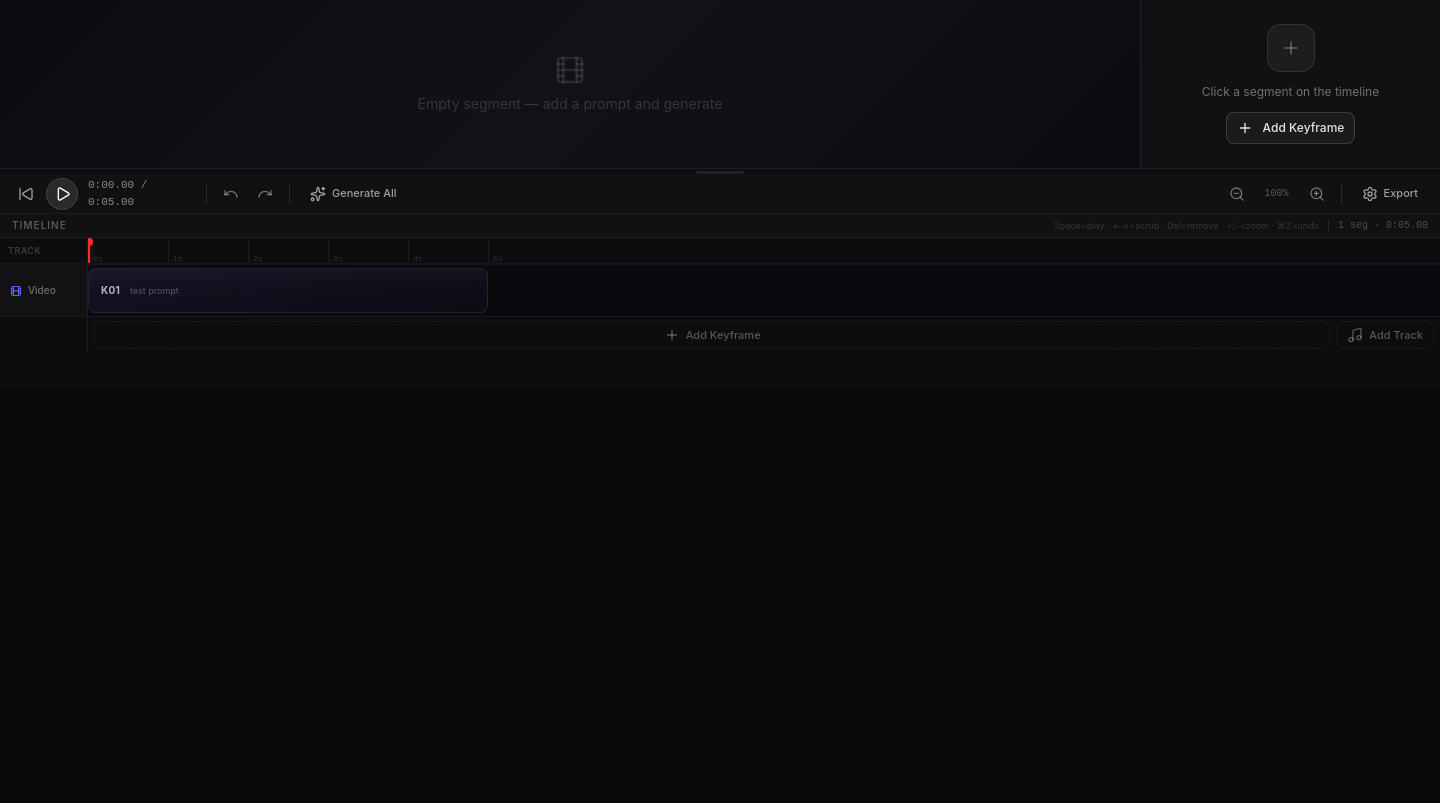
Test: VideoEditor — segment selection & inspector › clicking a segment shows the inspector panel
The image size is (1440, 803).
Click the element showing "K01 test prompt".
click(288, 290)  # box [88,268,488,313]
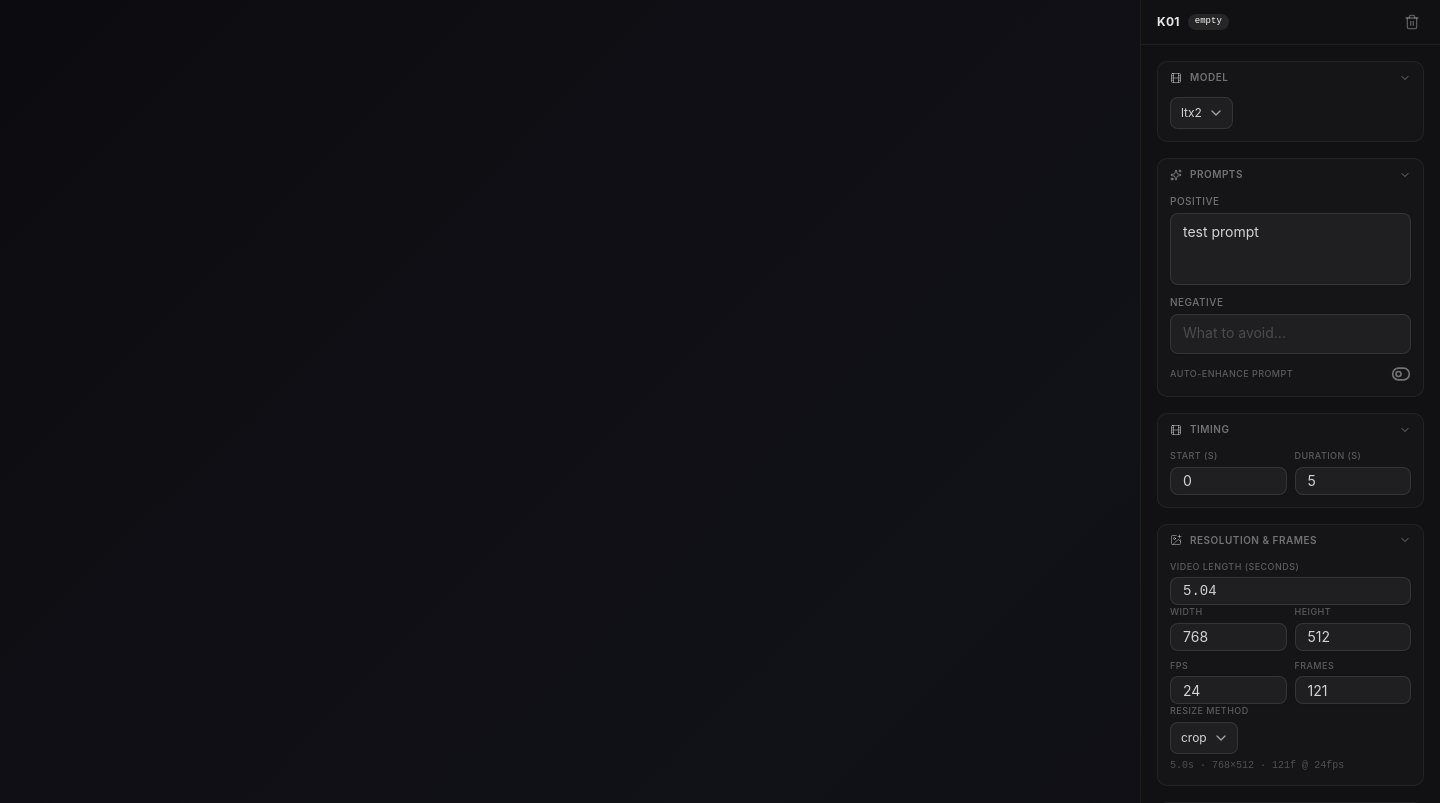
Expected: the text "Prompts" is shown, [1190,168,1243,180]
Expected: the text box showing "test prompt" is shown, [1170,213,1411,285]
